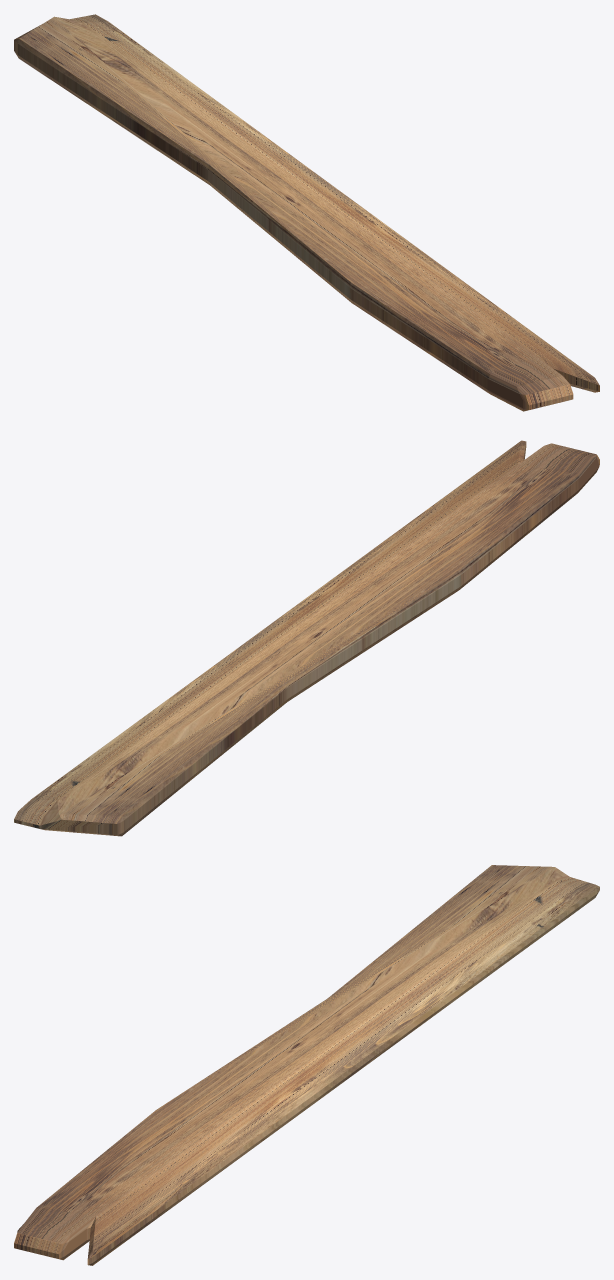
Rendered from plank2.fbx.
3 renders of one model, top to bottom at view 1: azimuth 30°, elevation 25°; view 2: azimuth 150°, elevation 25°; view 3: azimuth 330°, elevation 25°, orthographic.
Visible parts, largest first — view 1: Plane.025; view 2: Plane.025; view 3: Plane.025.
Boxes of the visible parts, x1,y1,x2,y2 form: Plane.025: [14, 14, 599, 411]; Plane.025: [14, 440, 599, 836]; Plane.025: [14, 865, 599, 1265].
Size of the model in its own units: 55.39 by 11.42 by 520.
